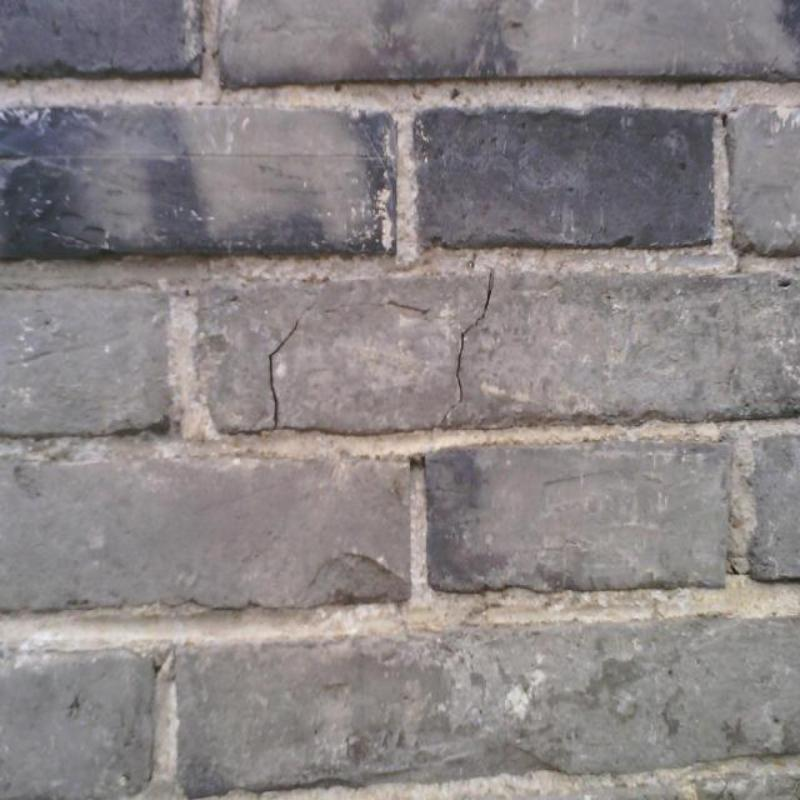crack: (437, 272, 493, 426), (268, 302, 316, 428)
